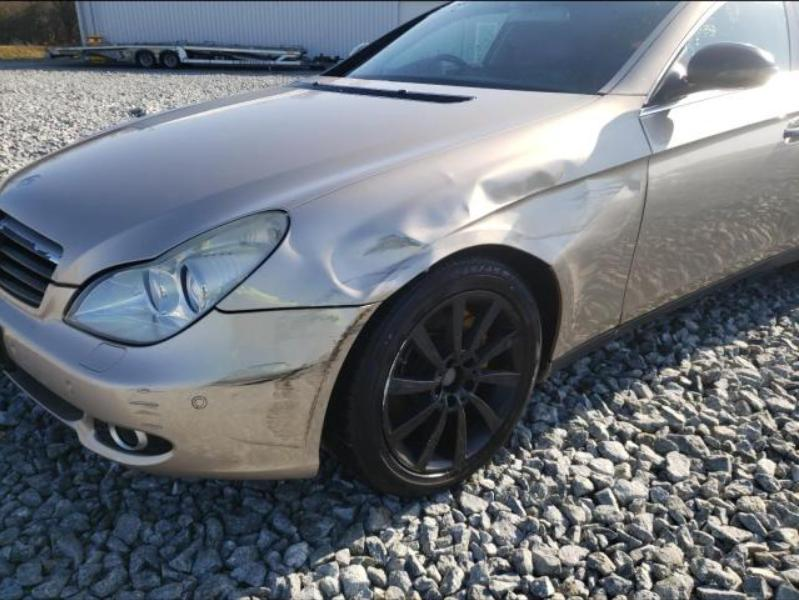Fender: (215, 95, 651, 359)
Front-bumper: (0, 285, 374, 487)
Front-door: (619, 0, 798, 322)
Front-wheel: (326, 252, 557, 505)
Front-window: (671, 0, 799, 77)
Grille: (0, 212, 63, 320)
Headlight: (65, 207, 294, 345)
Hood: (0, 77, 610, 289)
Mirror: (664, 40, 773, 96)
Rocker-panel: (548, 241, 799, 382)
Windshield: (340, 0, 683, 95)
